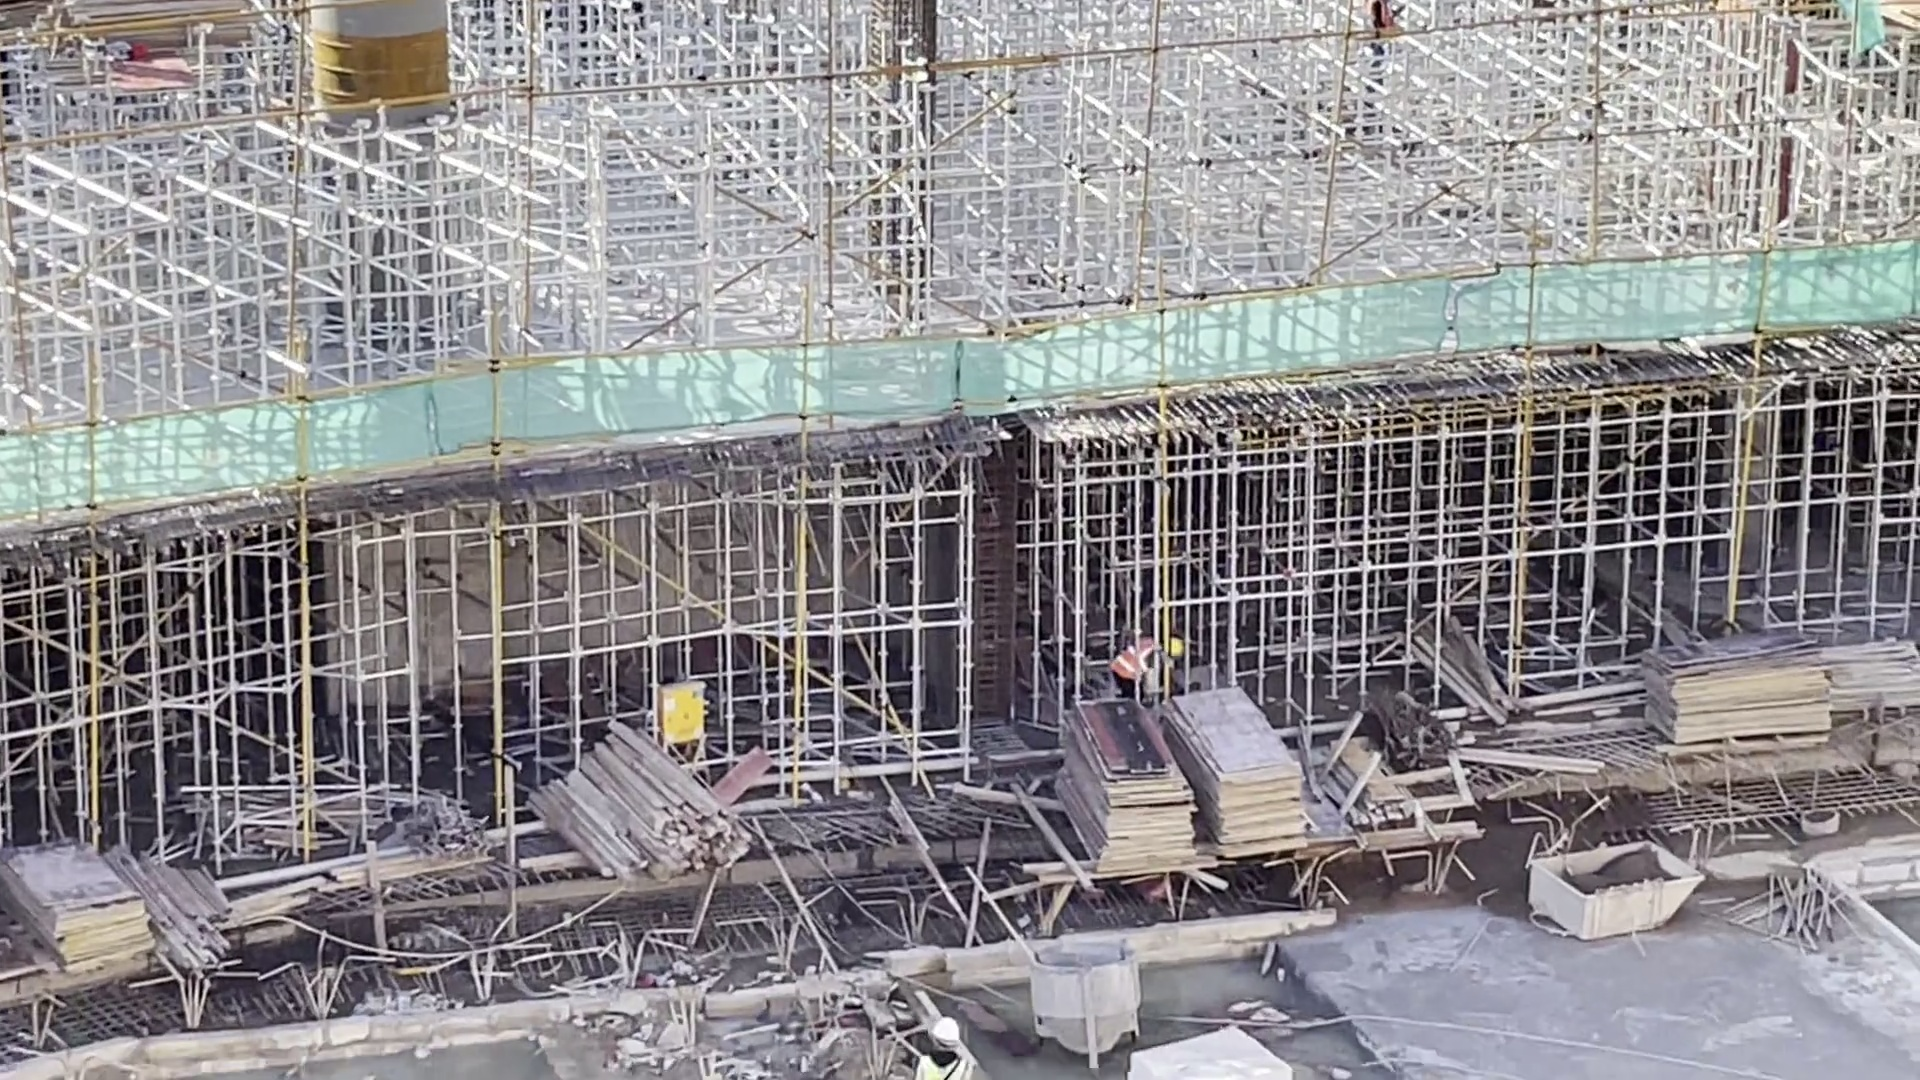board: (1052, 693, 1200, 883), (1640, 628, 1840, 756), (1174, 683, 1315, 858), (12, 838, 156, 980)
brick: (1126, 1016, 1283, 1080)
ebox: (656, 675, 706, 748)
helmet: (929, 1015, 956, 1045), (1171, 635, 1185, 658)
hopper: (1526, 835, 1711, 943), (1026, 934, 1141, 1074)
person: (915, 1009, 984, 1080)
vest: (910, 1057, 968, 1079)
wood: (518, 719, 756, 878), (163, 864, 233, 976)
